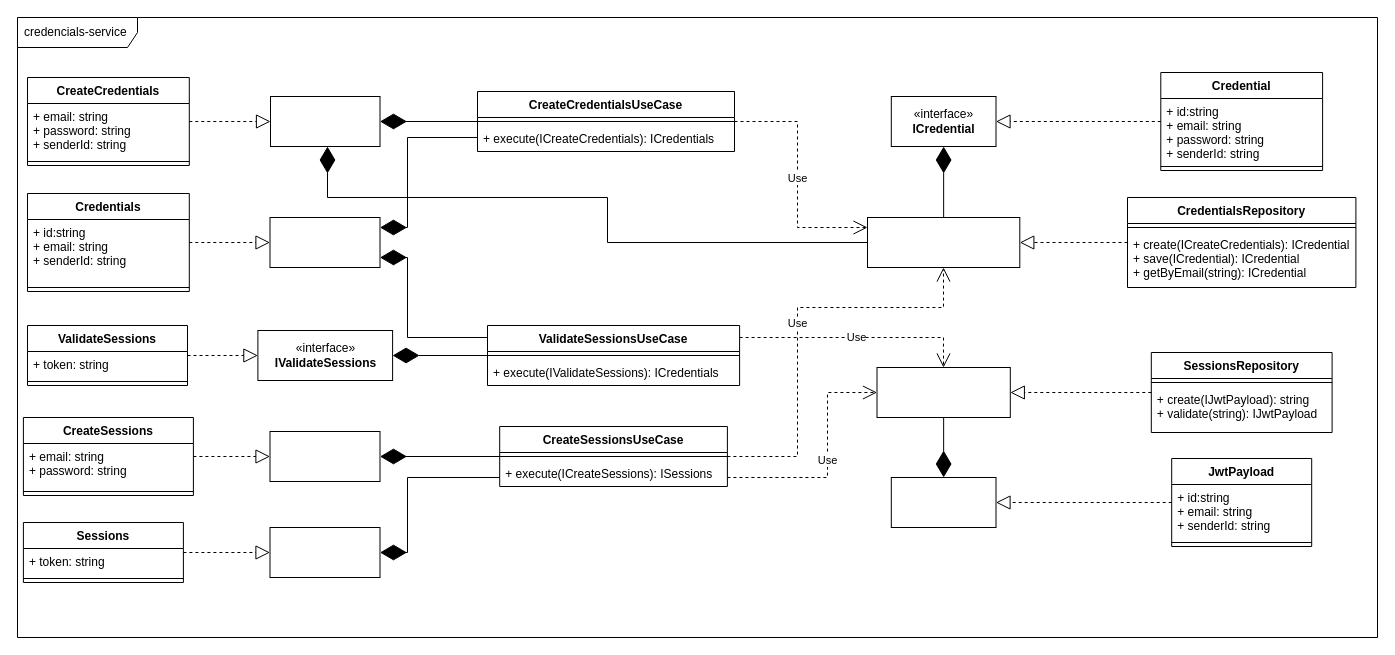
Image size: 1395x655. Some labels were removed from this diagram. Each missing label, with the centre of its shape:
"«interface» ICreateCredentials" belongs at [325,121].
"«interface» ICreateSessions" belongs at [324,456].
"«interface» ICredentials" belongs at [324,242].
"«interface» ICredentialsRepository" belongs at [943,242].
"«interface» IJwtPayload" belongs at [943,502].
"«interface» ISessions" belongs at [324,552].
"«interface» ISessionsRepository" belongs at [943,392].
